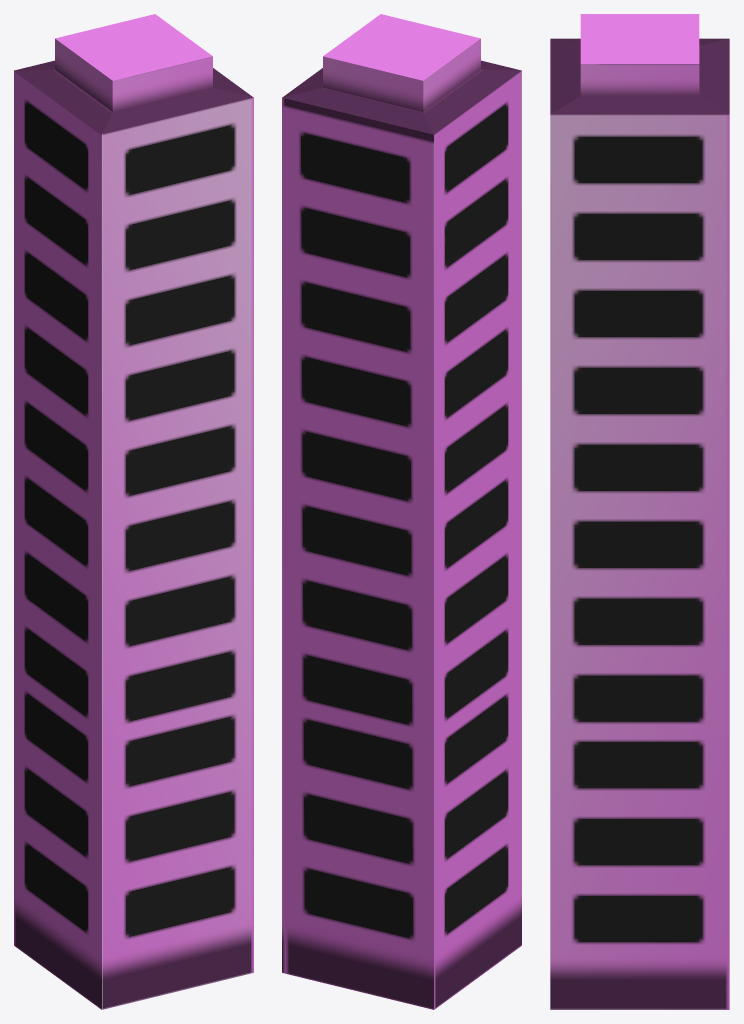
The model's file is predio7.fbx.
The picture shows the model from 3 angles, left to right: view 1: azimuth 30°, elevation 25°; view 2: azimuth 150°, elevation 25°; view 3: azimuth 270°, elevation 25°; orthographic projection. The views are drawn at different scales.
Visible parts, largest first — view 1: predio 1; view 2: predio 1; view 3: predio 1.
Part boxes in pixels (x1=…): predio 1: x1=14, y1=14, x2=253, y2=1009; predio 1: x1=282, y1=14, x2=521, y2=1009; predio 1: x1=550, y1=14, x2=729, y2=1009.
Size of the model in its own units: 200 by 1146 by 200.
